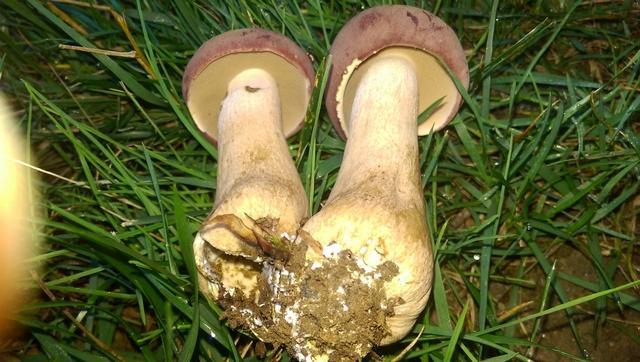Non-edible Mushroom: (298, 4, 470, 350), (175, 17, 320, 328)
